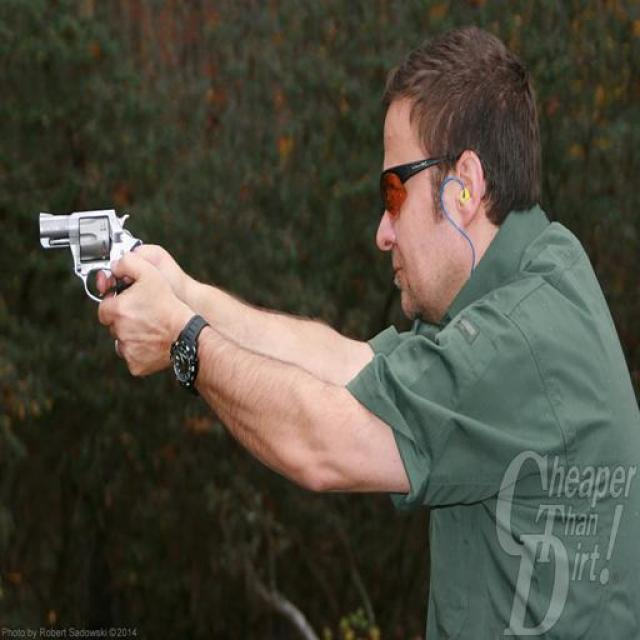pistol: (36, 194, 145, 329)
